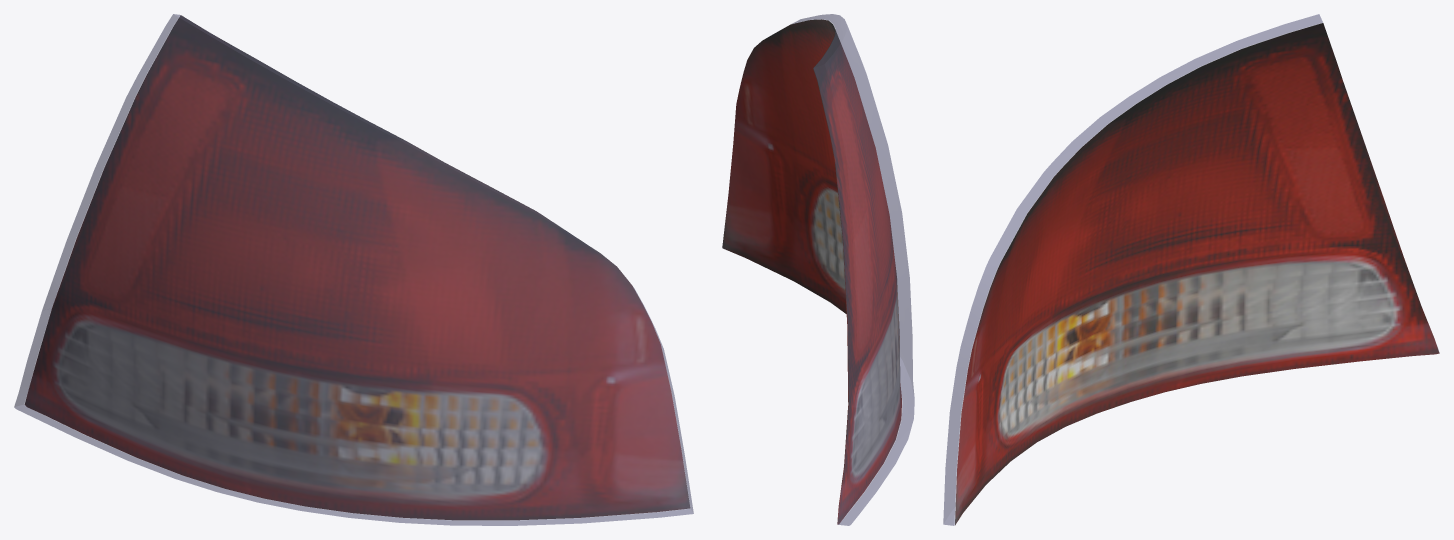
3 renders of one model, left to right at view 1: azimuth 30°, elevation 25°; view 2: azimuth 150°, elevation 25°; view 3: azimuth 270°, elevation 25°, orthographic. The views are drawn at different scales.
Parts seen in each view (by area): view 1: Z176_541C_R_Z176_541C_R_2_DTaSI, Z176_541C_R_1_N_Z176_541C_R; view 2: Z176_541C_R_1_N_Z176_541C_R, Z176_541C_R_Z176_541C_R_2_DTaSI; view 3: Z176_541C_R_1_N_Z176_541C_R, Z176_541C_R_Z176_541C_R_2_DTaSI.
Boxes of the visible parts, box(x1,y1,x2,y2) form: Z176_541C_R_Z176_541C_R_2_DTaSI: box(14, 14, 693, 525); Z176_541C_R_1_N_Z176_541C_R: box(25, 15, 690, 520); Z176_541C_R_1_N_Z176_541C_R: box(722, 19, 901, 524); Z176_541C_R_Z176_541C_R_2_DTaSI: box(792, 14, 914, 525); Z176_541C_R_1_N_Z176_541C_R: box(955, 23, 1439, 525); Z176_541C_R_Z176_541C_R_2_DTaSI: box(943, 14, 1438, 525).
Bounding box in the file's own units: 29.19 × 29.04 × 34.7.
